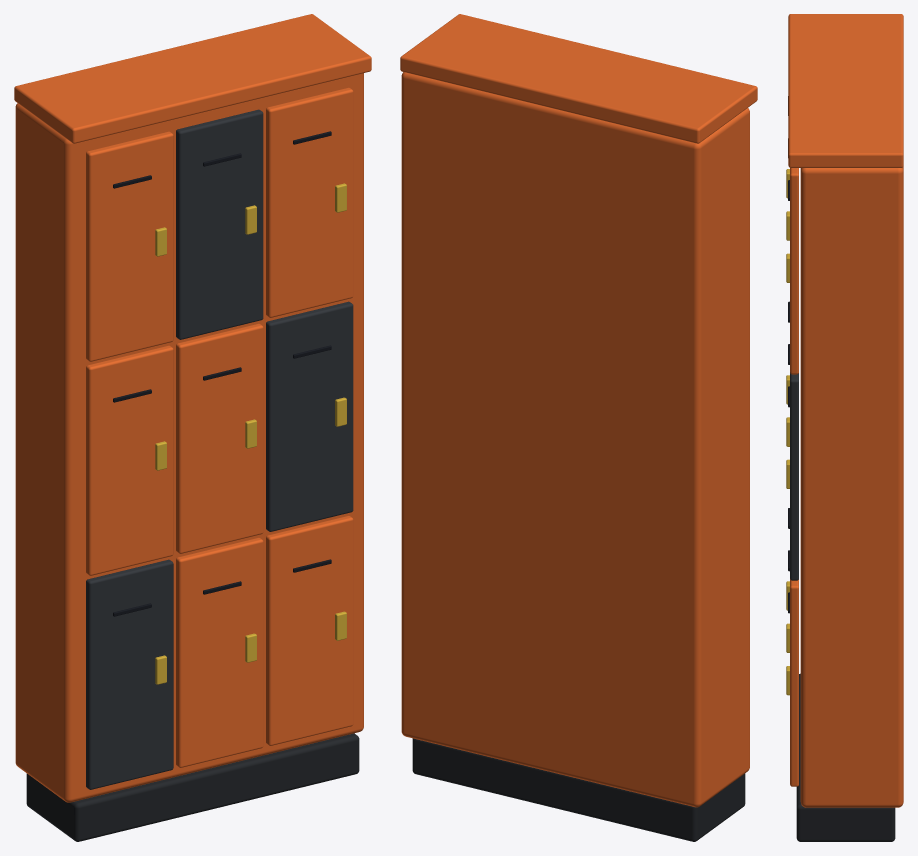
File: campus-lockers-compact-hbhs.glb
3 renders of one model, left to right at view 1: azimuth 30°, elevation 25°; view 2: azimuth 150°, elevation 25°; view 3: azimuth 270°, elevation 25°, orthographic. The views are drawn at different scales.
Size of the model in its own units: 0.81 by 1.86 by 0.285.
